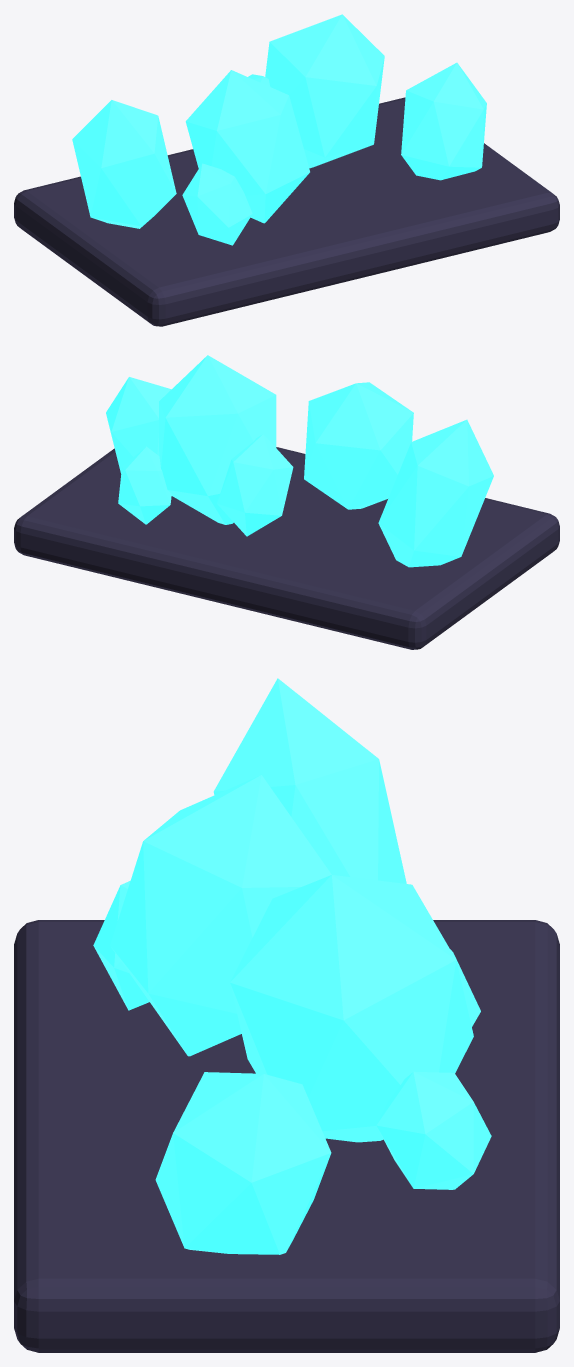
Rendered from crystal.glb.
3 renders of one model, top to bottom at view 1: azimuth 30°, elevation 25°; view 2: azimuth 150°, elevation 25°; view 3: azimuth 270°, elevation 25°, orthographic. The views are drawn at different scales.
Parts seen in each view (by area): view 1: Base, Spike2, Spike1, Spike0, Spike3, Spike5; view 2: Base, Spike2, Spike0, Spike1, Spike4, Spike3, Spike6; view 3: Base, Spike2, Spike1, Spike3, Spike0, Spike6, Spike5.
Part boxes in pixels (x1=…): Base: x1=14, y1=97, x2=559, y2=326; Spike2: x1=265, y1=14, x2=384, y2=168; Spike1: x1=185, y1=70, x2=309, y2=223; Spike0: x1=72, y1=100, x2=176, y2=228; Spike3: x1=401, y1=62, x2=486, y2=180; Spike5: x1=182, y1=163, x2=252, y2=245; Base: x1=14, y1=447, x2=559, y2=649; Spike2: x1=159, y1=355, x2=276, y2=524; Spike0: x1=378, y1=419, x2=493, y2=567; Spike1: x1=304, y1=382, x2=413, y2=509; Spike4: x1=217, y1=434, x2=293, y2=536; Spike3: x1=106, y1=377, x2=171, y2=473; Spike6: x1=118, y1=446, x2=171, y2=524; Base: x1=14, y1=920, x2=559, y2=1352; Spike2: x1=230, y1=875, x2=473, y2=1142; Spike1: x1=110, y1=775, x2=331, y2=1056; Spike3: x1=155, y1=1072, x2=331, y2=1254; Spike0: x1=213, y1=678, x2=406, y2=883; Spike6: x1=376, y1=1071, x2=491, y2=1189; Spike5: x1=93, y1=881, x2=149, y2=1010.
Size of the model in its own units: 1.8 by 0.7991 by 1.1.
